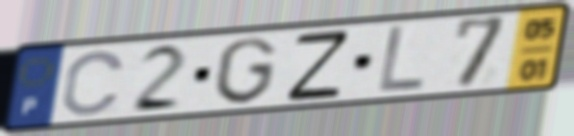2: (123, 43, 194, 115)
7: (452, 15, 510, 92)
C: (58, 48, 129, 118)
G: (211, 34, 280, 106)
L: (374, 23, 428, 94)
Z: (283, 27, 353, 104)
